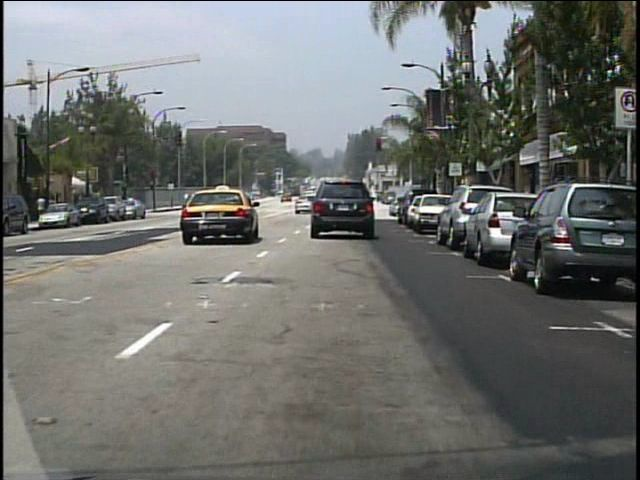person: (38, 193, 49, 223), (242, 189, 255, 212), (328, 190, 341, 213)
